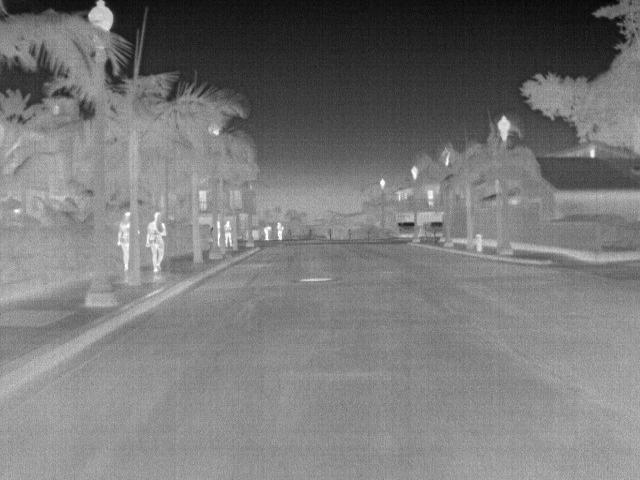car: (397, 219, 416, 239), (423, 221, 443, 238)
person: (148, 210, 167, 273), (116, 211, 132, 272), (223, 218, 235, 244), (274, 221, 288, 241), (262, 224, 274, 242)
